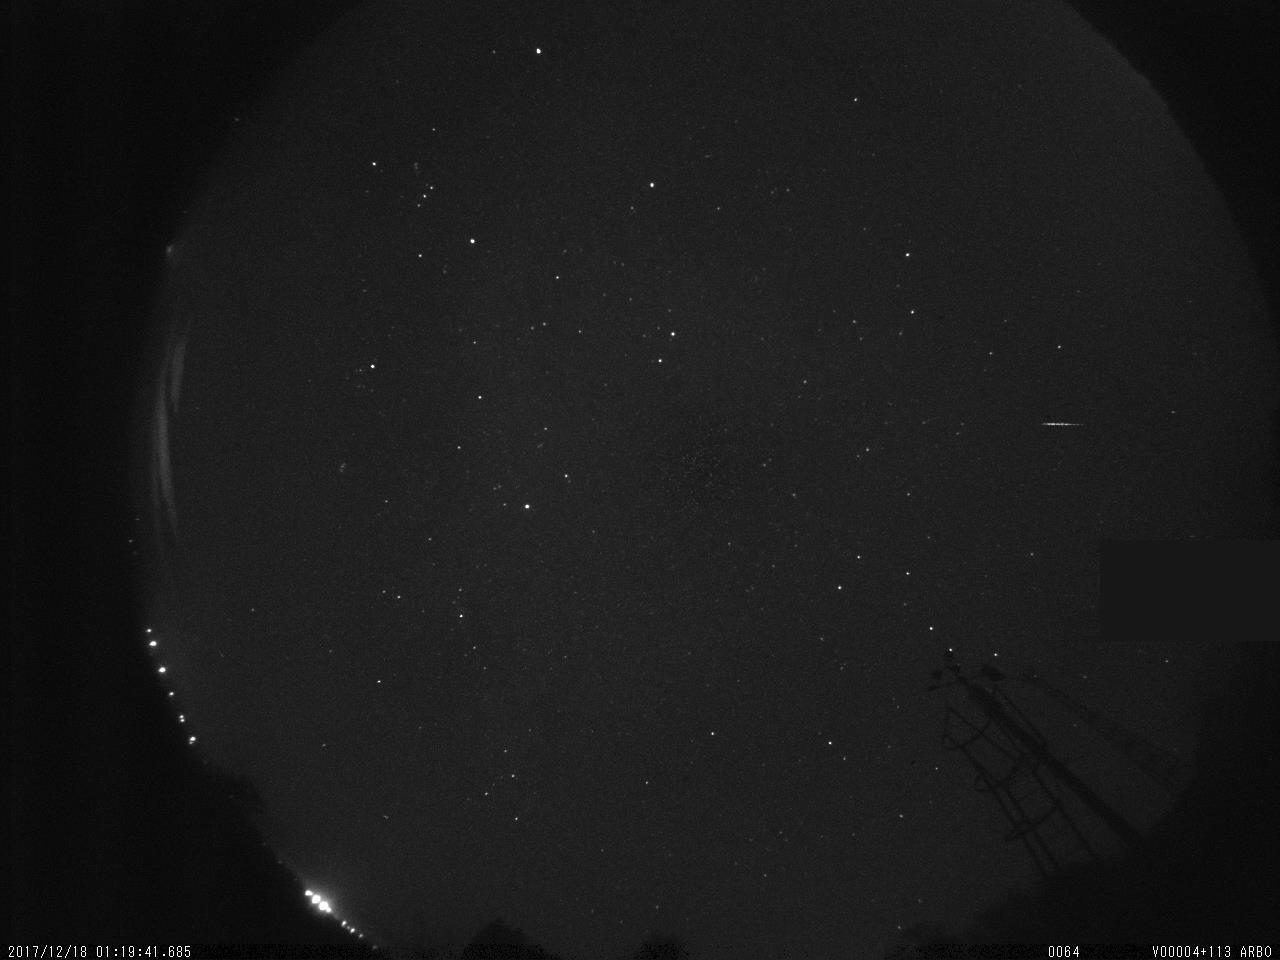meteor: (1039, 421, 1083, 428)
